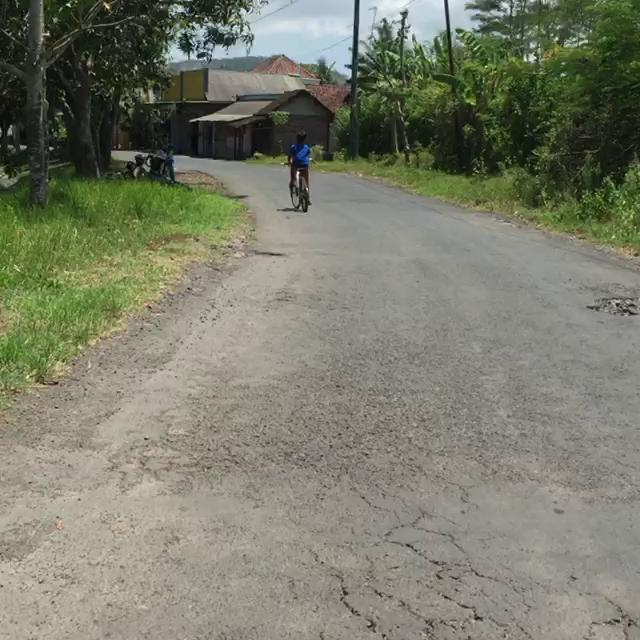retak_kulit_buaya: (258, 488, 640, 640)
